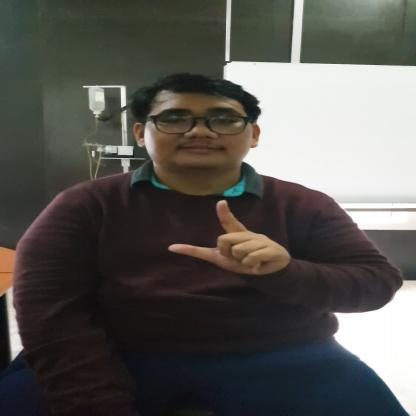L: (166, 198, 291, 278)
